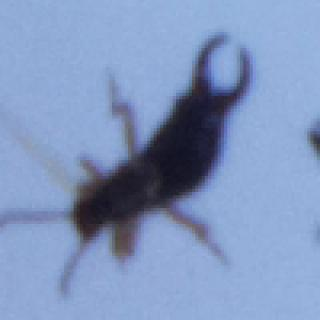earwig: (6, 28, 253, 297)
